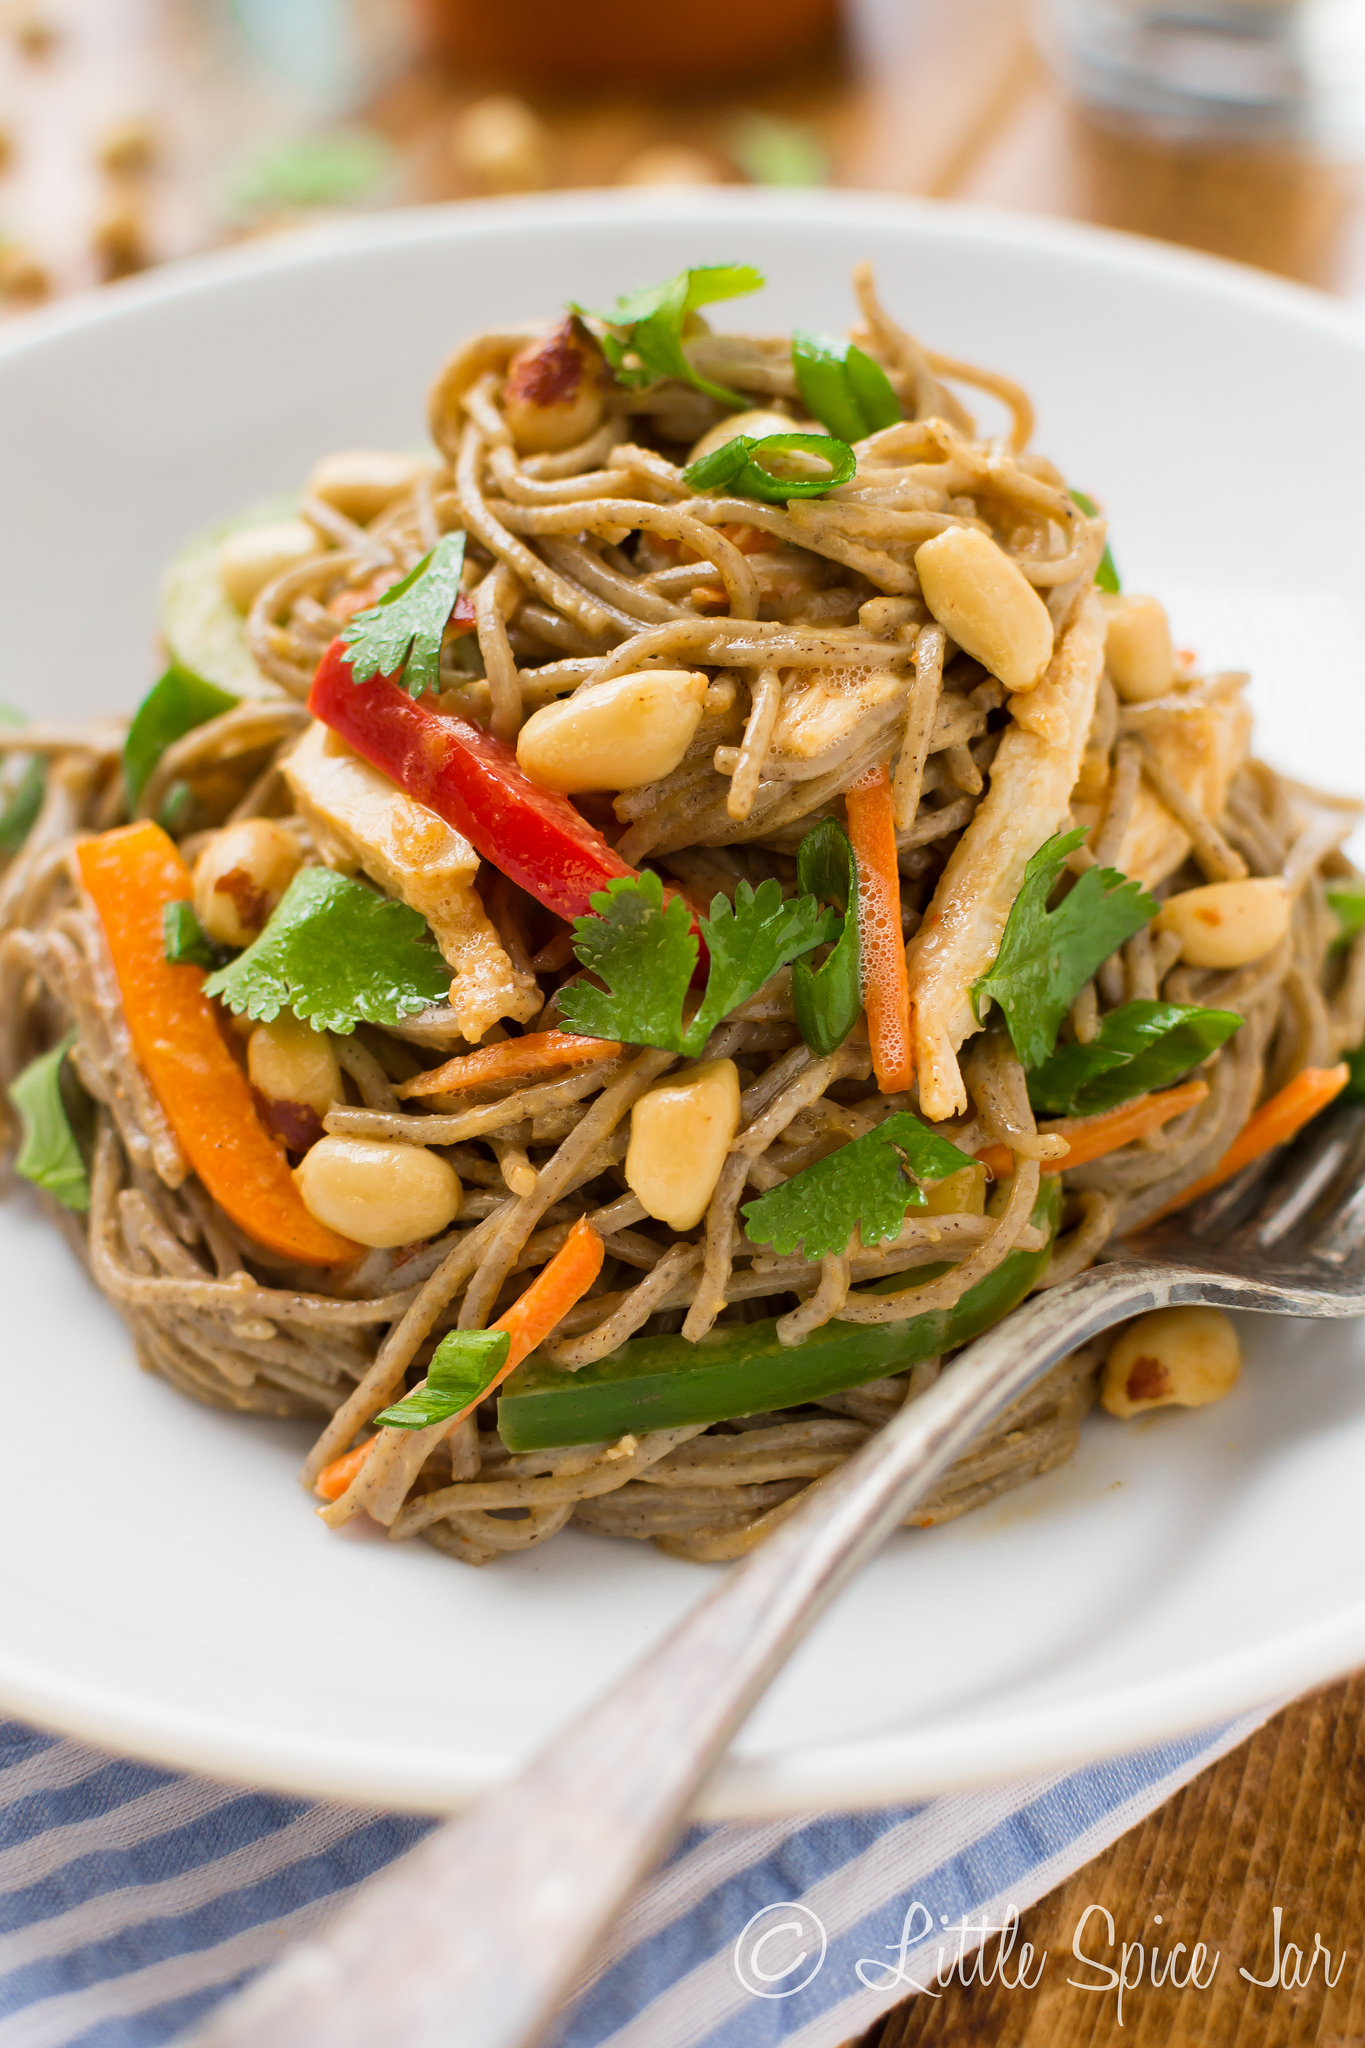Soba: (35, 286, 1351, 1568)
